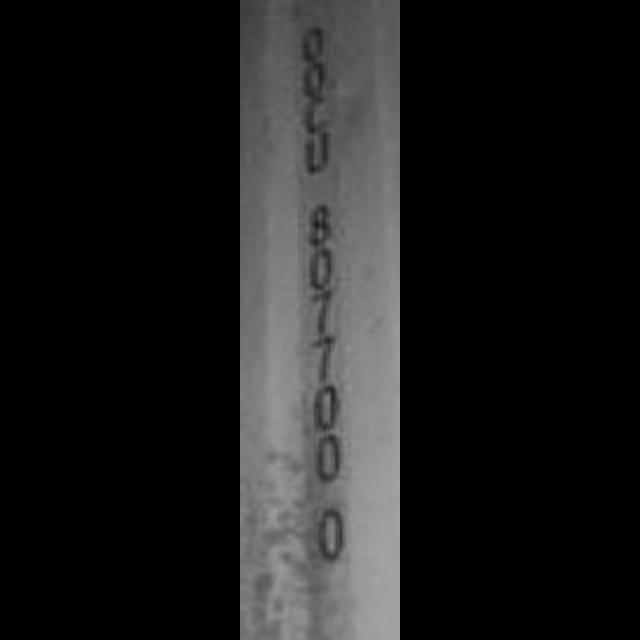0: (313, 502, 351, 568), (304, 385, 354, 435), (301, 244, 345, 300), (309, 432, 351, 488)
7: (306, 336, 346, 390), (304, 291, 342, 337)
8: (298, 196, 342, 250)
c: (292, 95, 348, 129)
o: (290, 10, 336, 62), (294, 62, 334, 105)
u: (296, 129, 340, 171)
